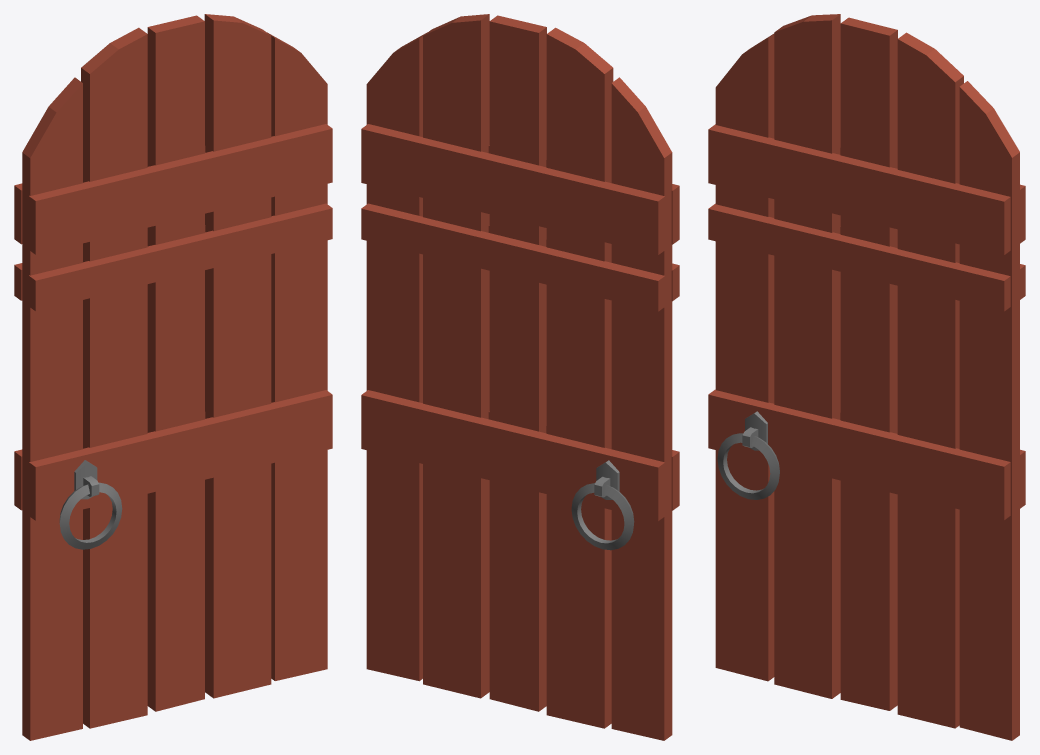
The model's file is SM_door_wooden_01.fbx.
3 views of the same model, side by side, from view 1: azimuth 30°, elevation 25°; view 2: azimuth 150°, elevation 25°; view 3: azimuth 330°, elevation 25° (orthographic).
Parts seen in each view (by area): view 1: Box583; view 2: Box583; view 3: Box583.
Boxes of the visible parts, x1,y1,x2,y2 form: Box583: [14, 14, 332, 740]; Box583: [361, 14, 679, 740]; Box583: [708, 14, 1025, 740].
Size of the model in its own units: 53.21 by 116 by 13.4.
